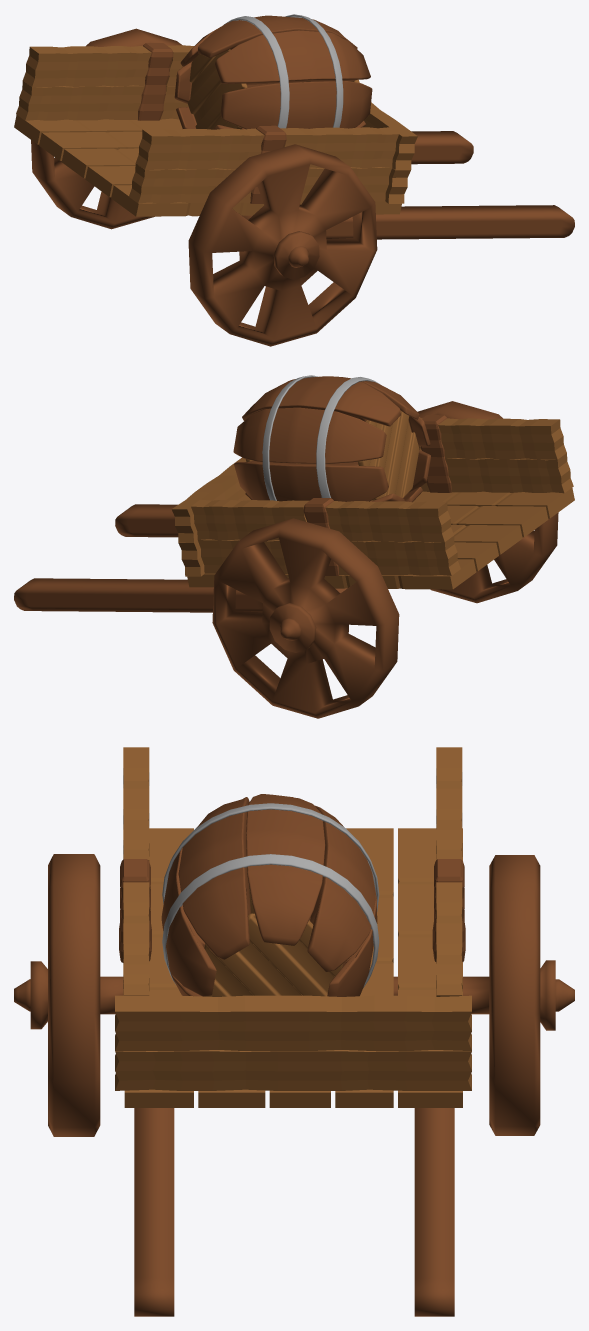
Rendered from carro1.fbx.
3 renders of one model, top to bottom at view 1: azimuth 30°, elevation 25°; view 2: azimuth 150°, elevation 25°; view 3: azimuth 270°, elevation 25°, orthographic. The views are drawn at different scales.
Visible parts, largest first — view 1: aro2.001; view 2: aro2.001; view 3: aro2.001.
Part boxes in pixels (bbox=[...]): aro2.001: bbox=[14, 14, 574, 346]; aro2.001: bbox=[14, 375, 574, 718]; aro2.001: bbox=[14, 747, 574, 1316].
Size of the model in its own units: 835 by 453 by 662.
